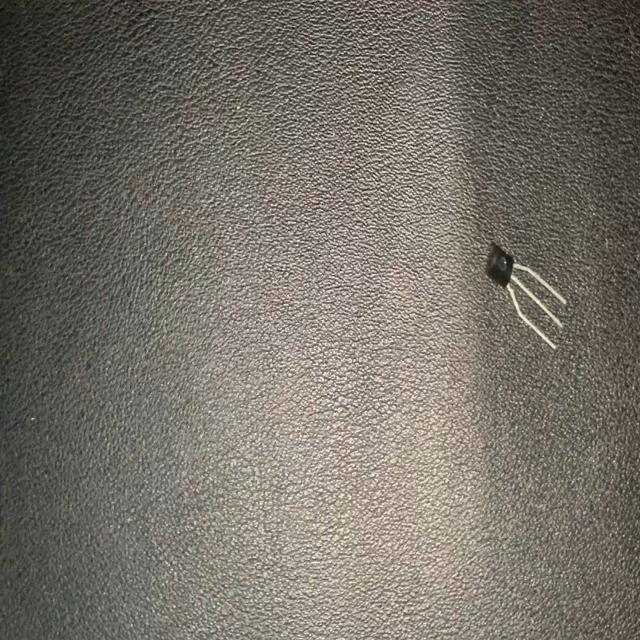BJT: (484, 236, 570, 354)
